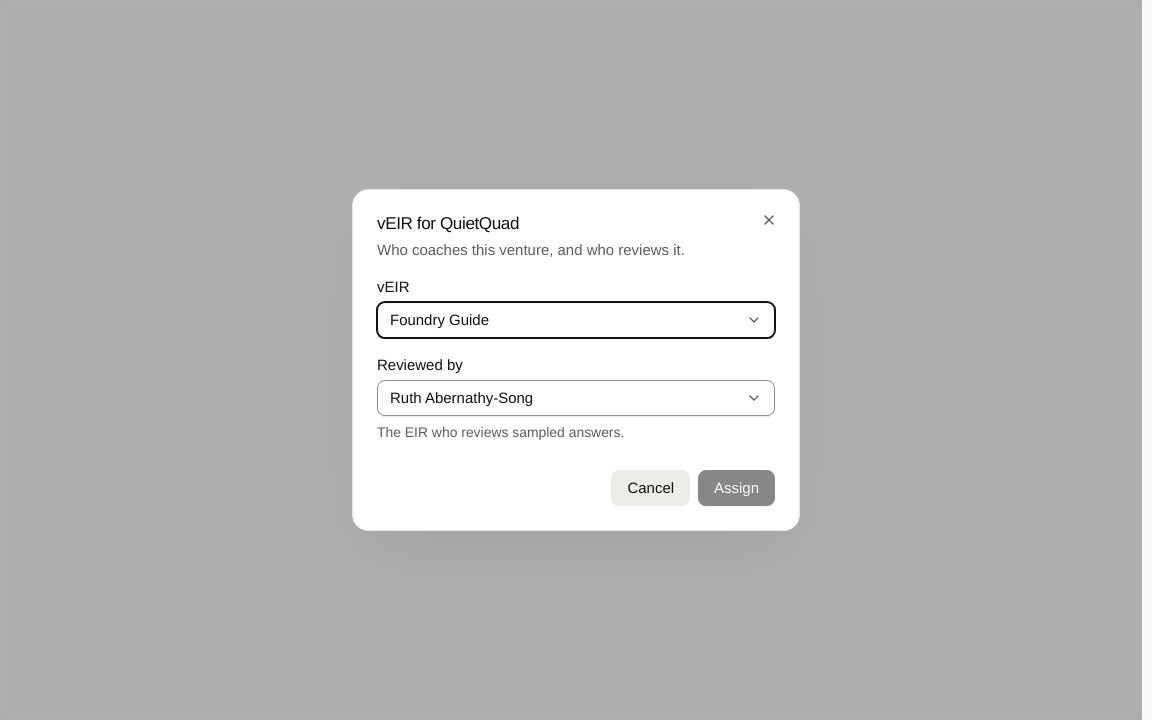
Test: AssignDialog (vEIRs & assignments) › warns that a reviewer-only change also ends open conversations
Expected: the text "Open conversations with Foundry Guide end at their next message." is not shown
What coordinates should you click on to do the following:
click the dropdown named "Reviewed by"
I would click on:
 (462, 398)
Its box is top-left (377, 380), bottom-right (775, 416).
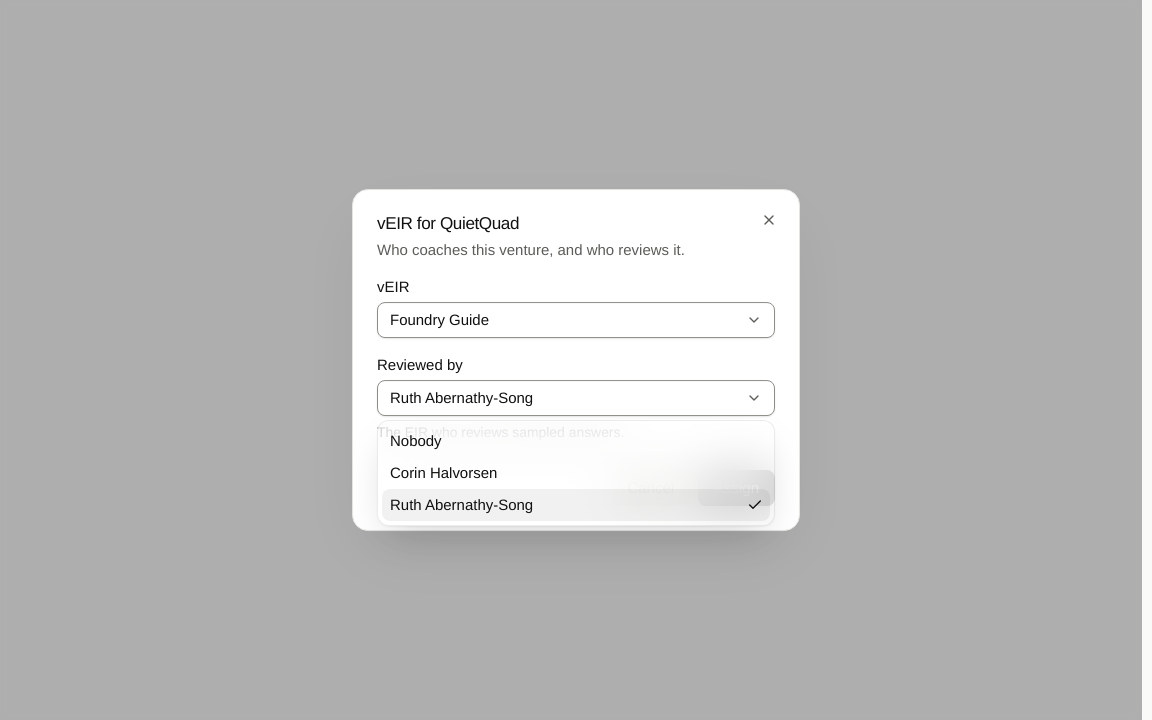
What coordinates should you click on to do the following:
click the option "Corin Halvorsen"
I would click on:
 (444, 472)
Its box is top-left (390, 464), bottom-right (497, 481).
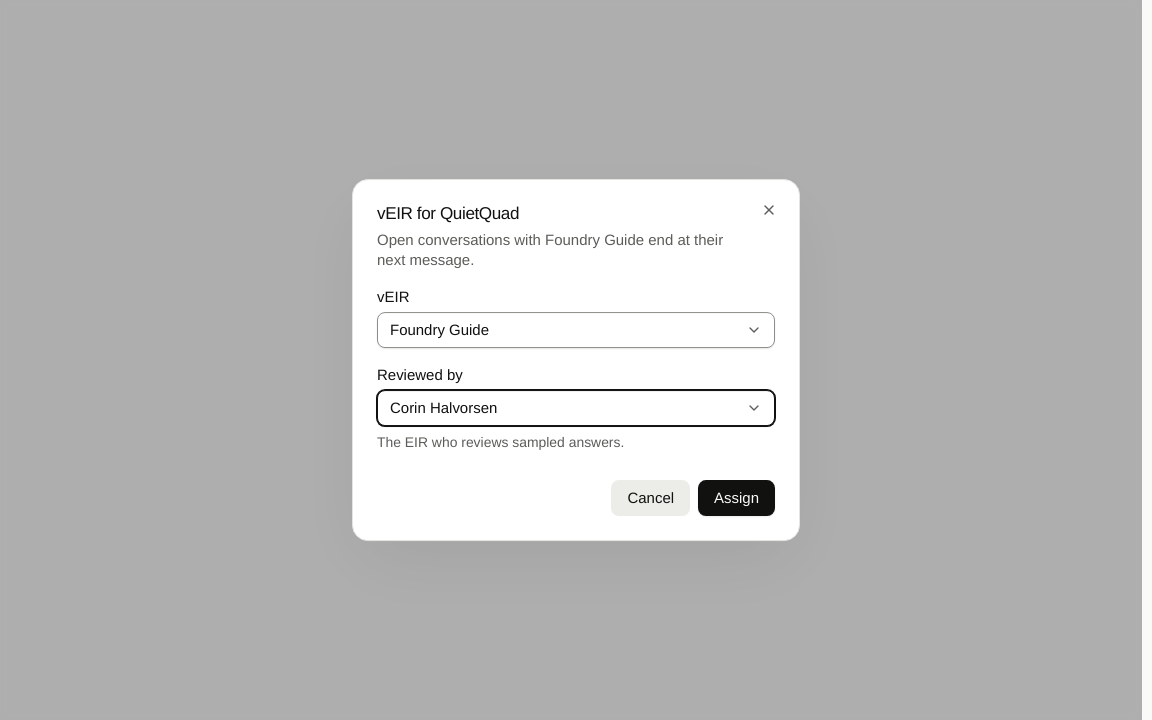
Now the text "Open conversations with Foundry Guide end at their next message." is shown, box top-left (377, 230), bottom-right (743, 270)
Now the button "Assign" is enabled, box top-left (698, 480), bottom-right (775, 516)
